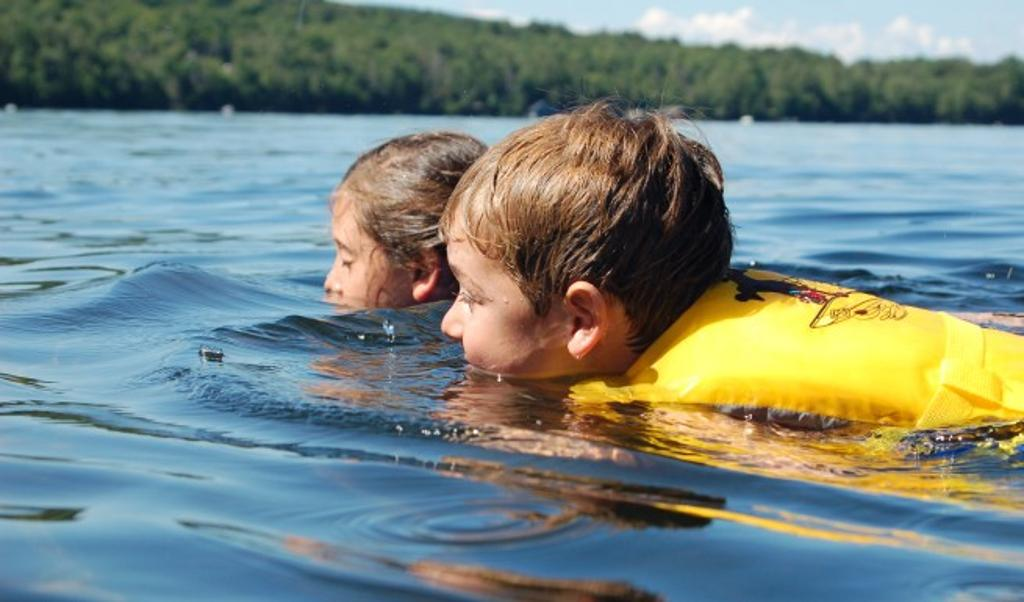face: (436, 230, 560, 410), (324, 206, 406, 350)
